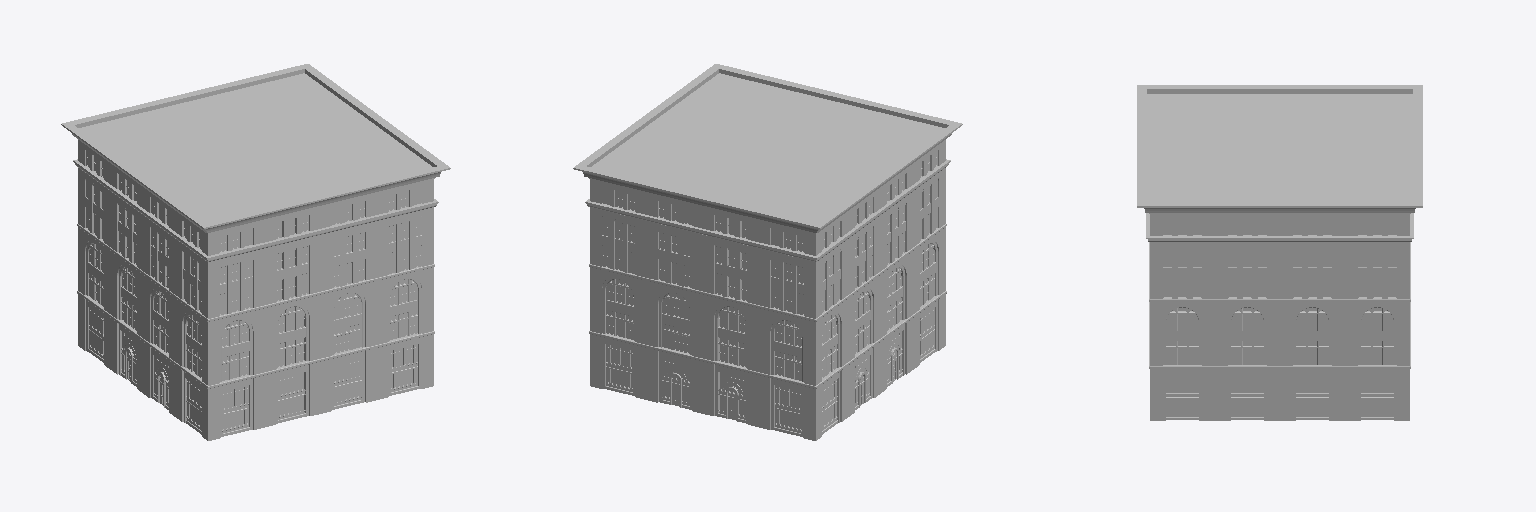
3 views of the same model, side by side, from view 1: azimuth 30°, elevation 25°; view 2: azimuth 150°, elevation 25°; view 3: azimuth 270°, elevation 25° (orthographic).
Parts seen in each view (by area): view 1: Building_Toy_31; view 2: Building_Toy_31; view 3: Building_Toy_31.
Boxes of the visible parts, <box> form: Building_Toy_31: <box>61,64,450,440</box>; Building_Toy_31: <box>573,64,962,440</box>; Building_Toy_31: <box>1137,85,1422,420</box>.
Bounding box in the file's own units: 30.15 × 25.73 × 30.15.